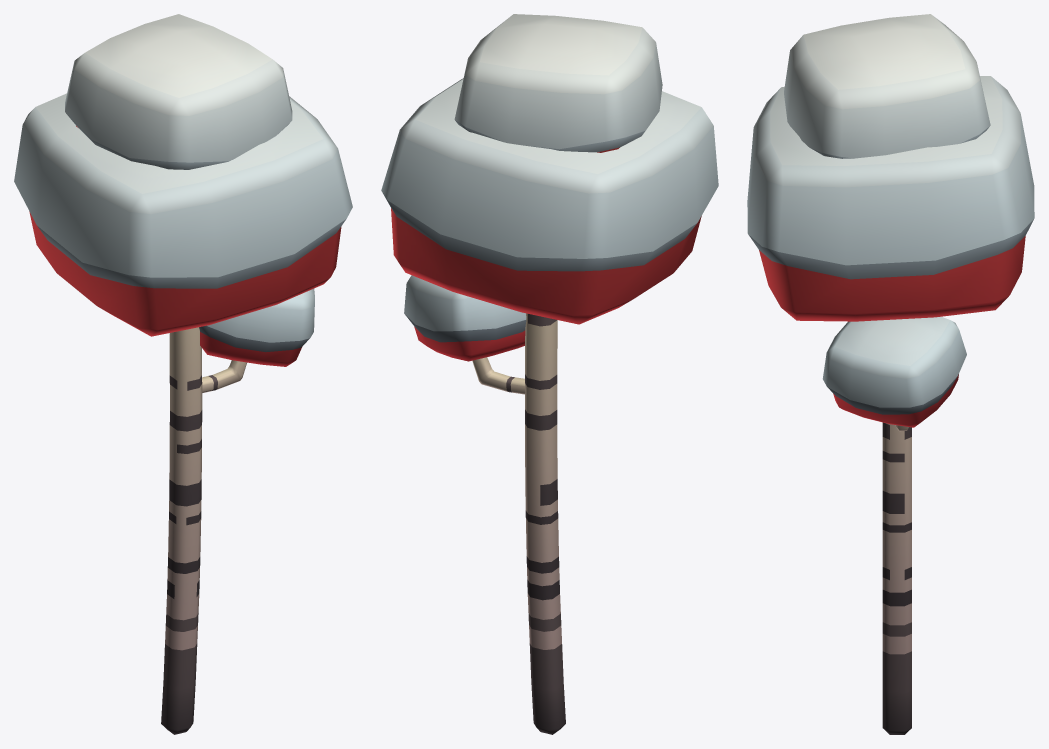
File: birch_tree_col3_04_snow.fbx
The picture shows the model from 3 angles, left to right: view 1: azimuth 30°, elevation 25°; view 2: azimuth 150°, elevation 25°; view 3: azimuth 270°, elevation 25°; orthographic projection.
Parts seen in each view (by area): view 1: birch_tree_col3_04_snow; view 2: birch_tree_col3_04_snow; view 3: birch_tree_col3_04_snow.
Part boxes in pixels (x1,y1,x2,y2): birch_tree_col3_04_snow: [14, 14, 352, 734]; birch_tree_col3_04_snow: [381, 14, 718, 734]; birch_tree_col3_04_snow: [747, 14, 1034, 734].
Bounding box in the file's own units: 382 × 978 × 370.
Materials: 1 (1 with a texture image).
